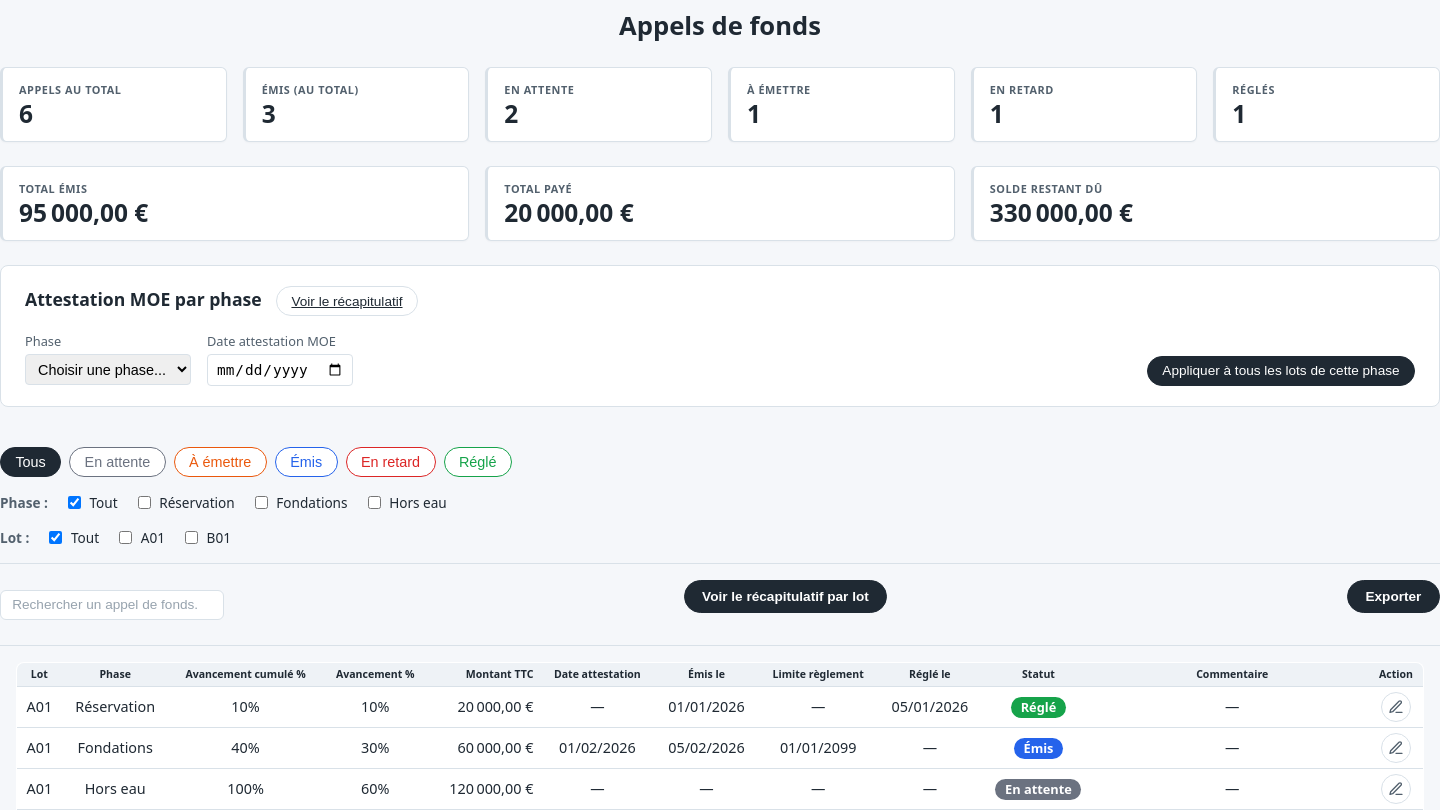
Test case: AppelsDeFonds — filtres › filtre par statut
Click the button "Réglé" at {"x": 478, "y": 462}, box [444,447,512,477]
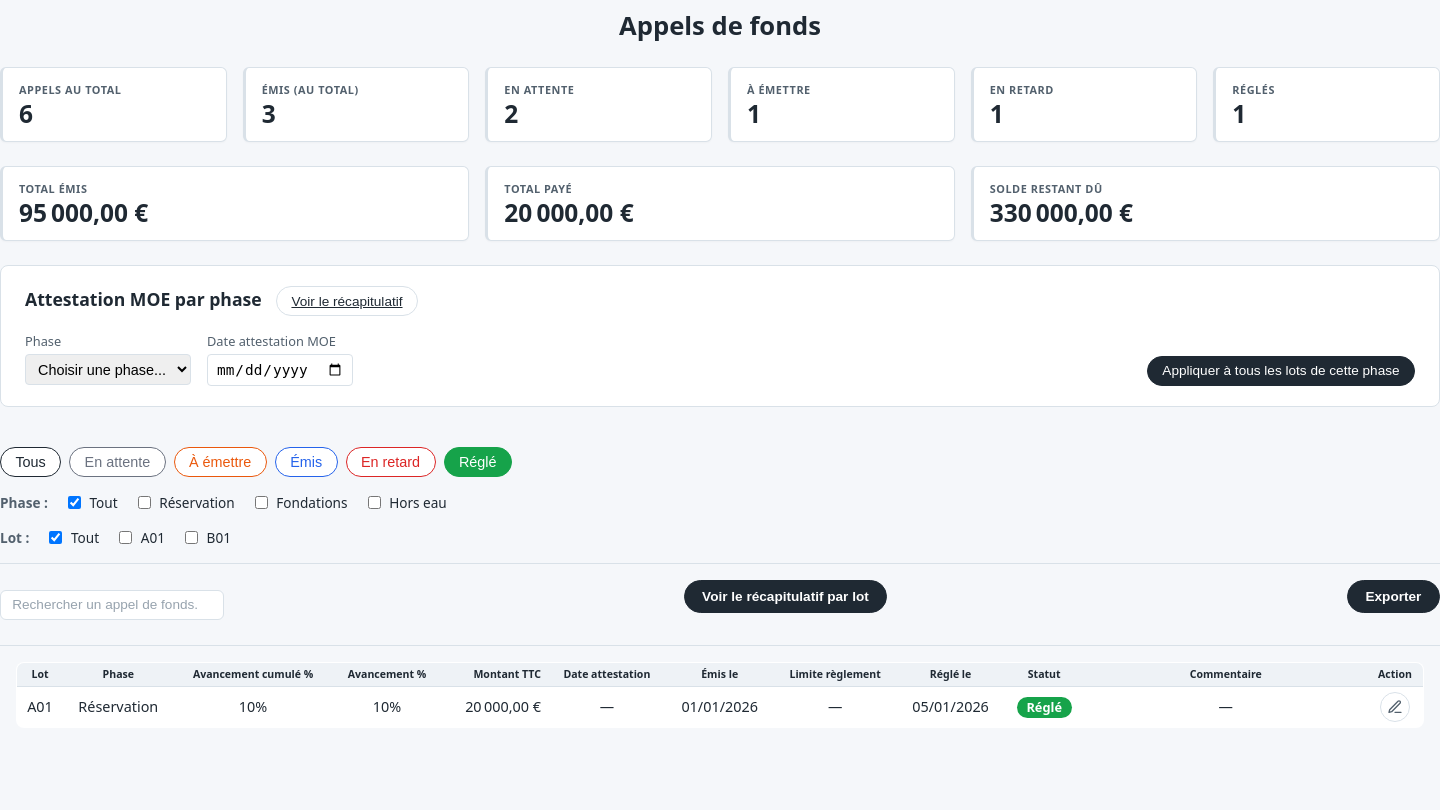
Check: the text "A01" is shown once, box [16,687,63,728]
